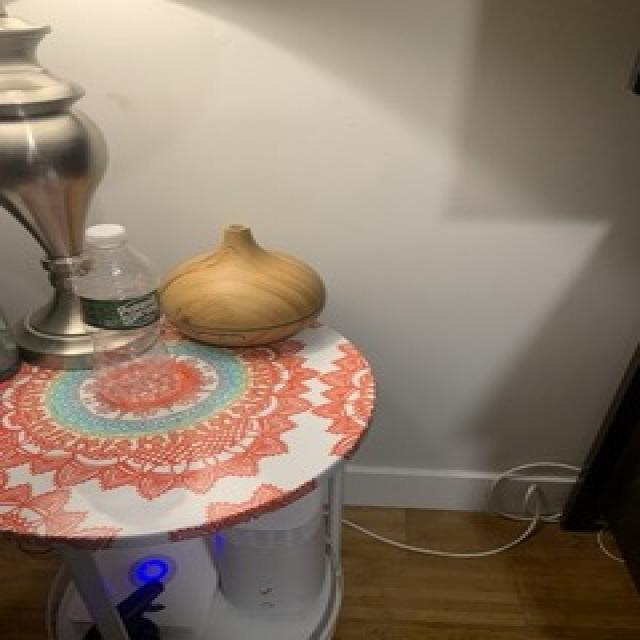water_bottle: (76, 224, 180, 404)
